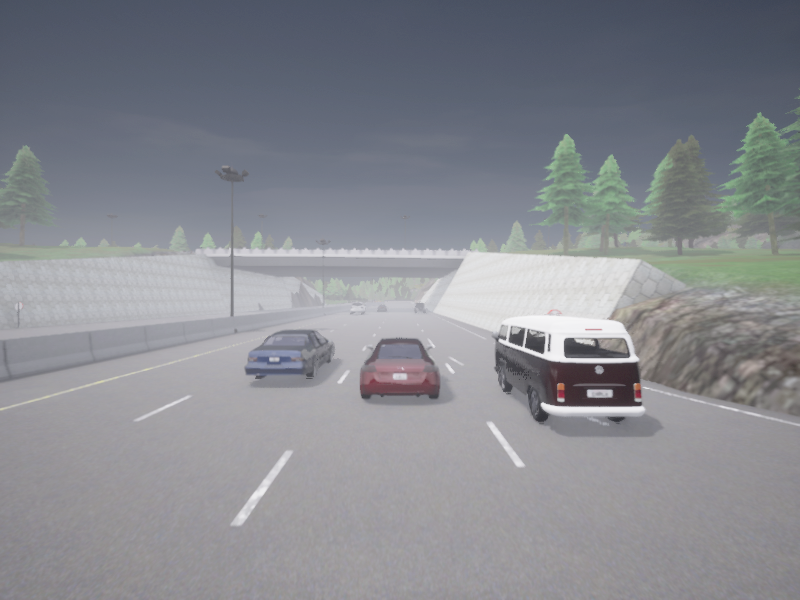vehicle: (492, 316, 644, 422), (359, 337, 440, 398), (244, 329, 334, 377), (351, 302, 365, 313), (414, 303, 424, 312), (377, 304, 387, 311)
